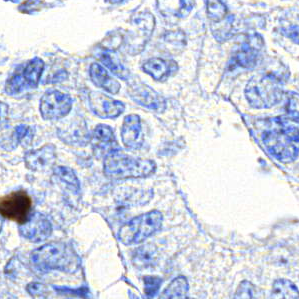Lymphocyte: (1, 186, 31, 224)
